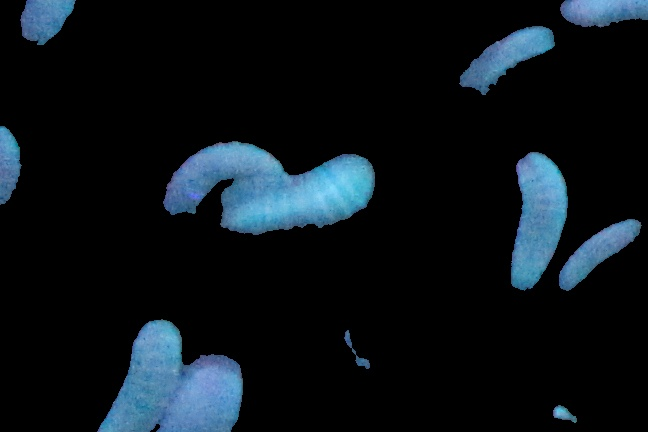larvae: (225, 153, 388, 225), (93, 313, 184, 432), (499, 145, 565, 299), (165, 142, 274, 222), (460, 18, 560, 95), (172, 345, 253, 432), (555, 210, 641, 289), (14, 1, 91, 42)
